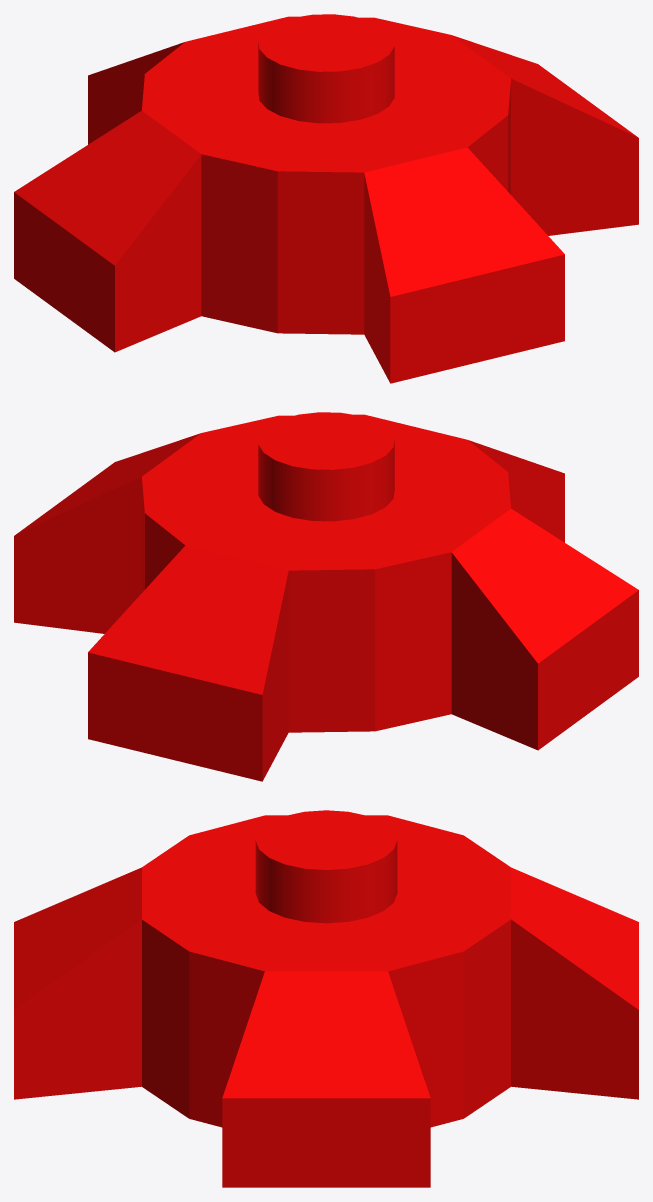
File: landmine.fbx
3 views of the same model, one above another, from view 1: azimuth 30°, elevation 25°; view 2: azimuth 150°, elevation 25°; view 3: azimuth 270°, elevation 25° (orthographic). The views are drawn at different scales.
Parts seen in each view (by area): view 1: pCube1, pCylinder1; view 2: pCube1, pCylinder1; view 3: pCube1, pCylinder1.
Part boxes in pixels (x1,y1,x2,y2): pCube1: (14,16,638,383); pCylinder1: (258,14,394,123); pCube1: (14,414,638,781); pCylinder1: (258,412,394,521); pCube1: (14,815,638,1187); pCylinder1: (255,810,397,923).
Size of the model in its own units: 1.69 by 0.659 by 1.69.
